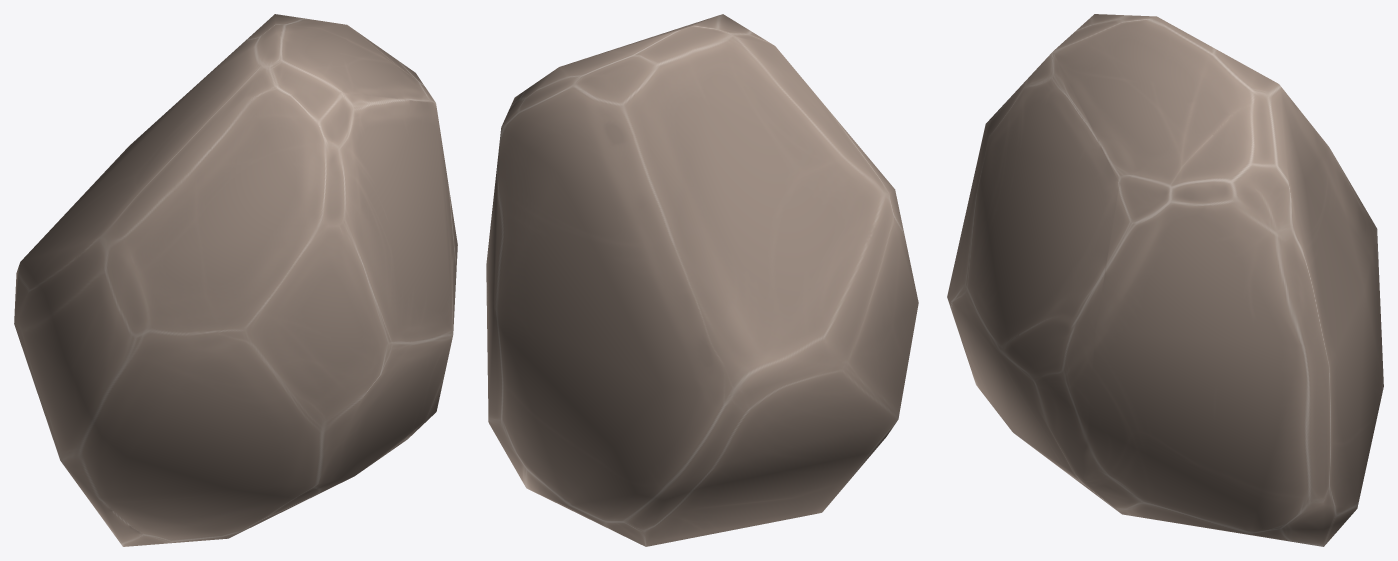
File: Stone_4_Variation_2.fbx
3 views of the same model, side by side, from view 1: azimuth 30°, elevation 25°; view 2: azimuth 150°, elevation 25°; view 3: azimuth 270°, elevation 25° (orthographic). The views are drawn at different scales.
Parts seen in each view (by area): view 1: Stone_4_Variation_2; view 2: Stone_4_Variation_2; view 3: Stone_4_Variation_2.
Boxes of the visible parts, x1,y1,x2,y2 form: Stone_4_Variation_2: (14, 14, 457, 546); Stone_4_Variation_2: (486, 14, 918, 546); Stone_4_Variation_2: (947, 14, 1383, 546).
Bounding box in the file's own units: 161 × 196 × 152.
